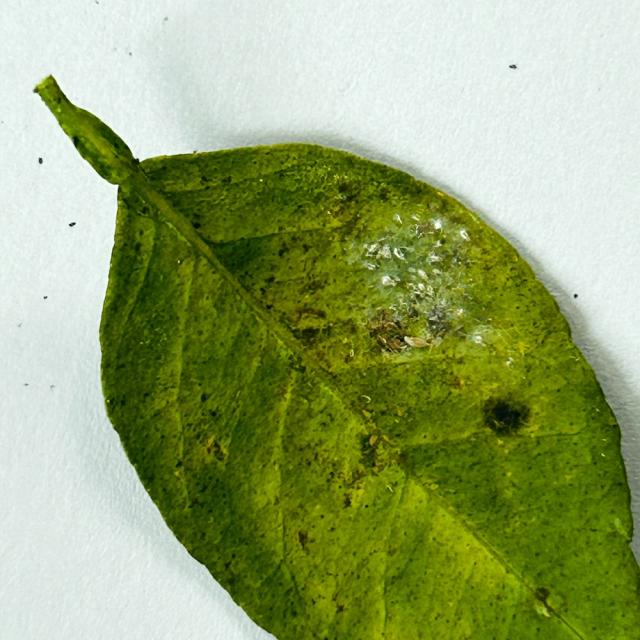Bacterial_Blight: (362, 310, 423, 356), (481, 392, 533, 442), (480, 397, 531, 435), (288, 305, 331, 343), (357, 432, 385, 471), (532, 590, 557, 616), (333, 176, 356, 197)
Lemon: (33, 77, 639, 639)
